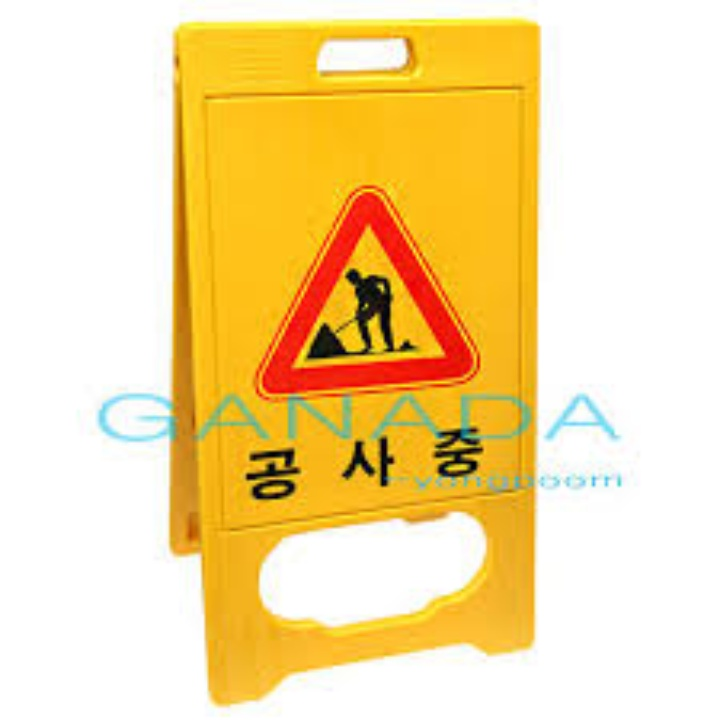const: (309, 263, 421, 357)
